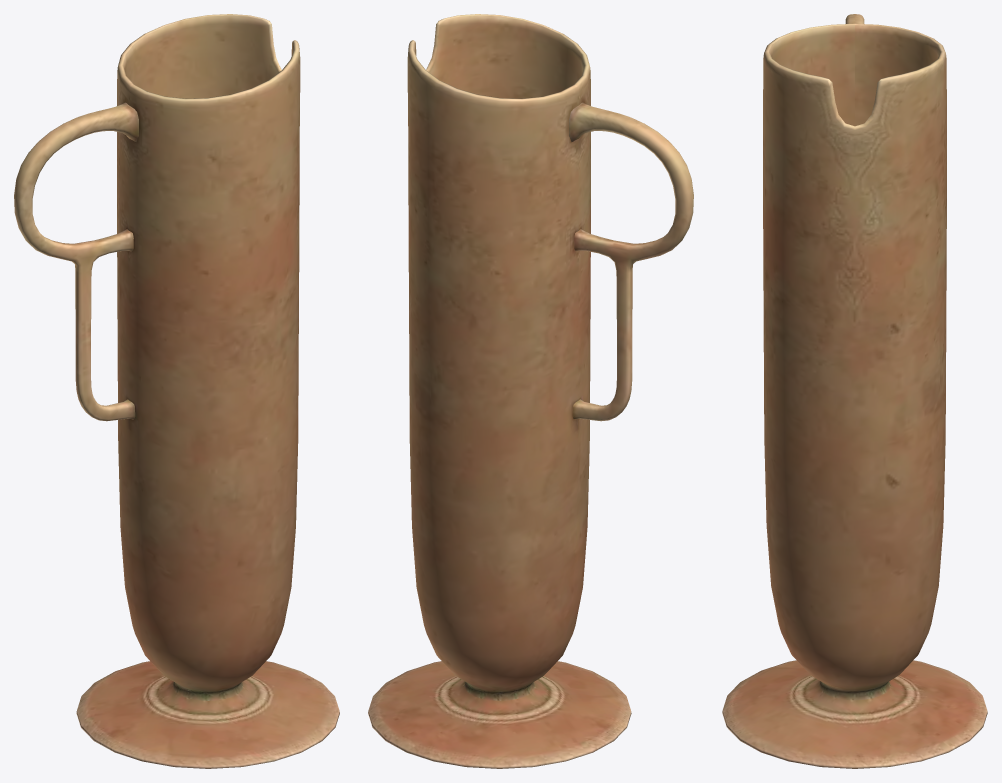
Rendered from brass_vase_04.glb.
3 renders of one model, left to right at view 1: azimuth 30°, elevation 25°; view 2: azimuth 150°, elevation 25°; view 3: azimuth 270°, elevation 25°, orthographic.
Visible parts, largest first — view 1: brass_vase_04; view 2: brass_vase_04; view 3: brass_vase_04.
Boxes of the visible parts, x1=… form: brass_vase_04: x1=14, y1=14, x2=339, y2=768; brass_vase_04: x1=368, y1=14, x2=693, y2=768; brass_vase_04: x1=722, y1=14, x2=987, y2=768.
Size of the model in its own units: 0.082 by 0.1703 by 0.0611.
Materials: 1 (1 with a texture image).
